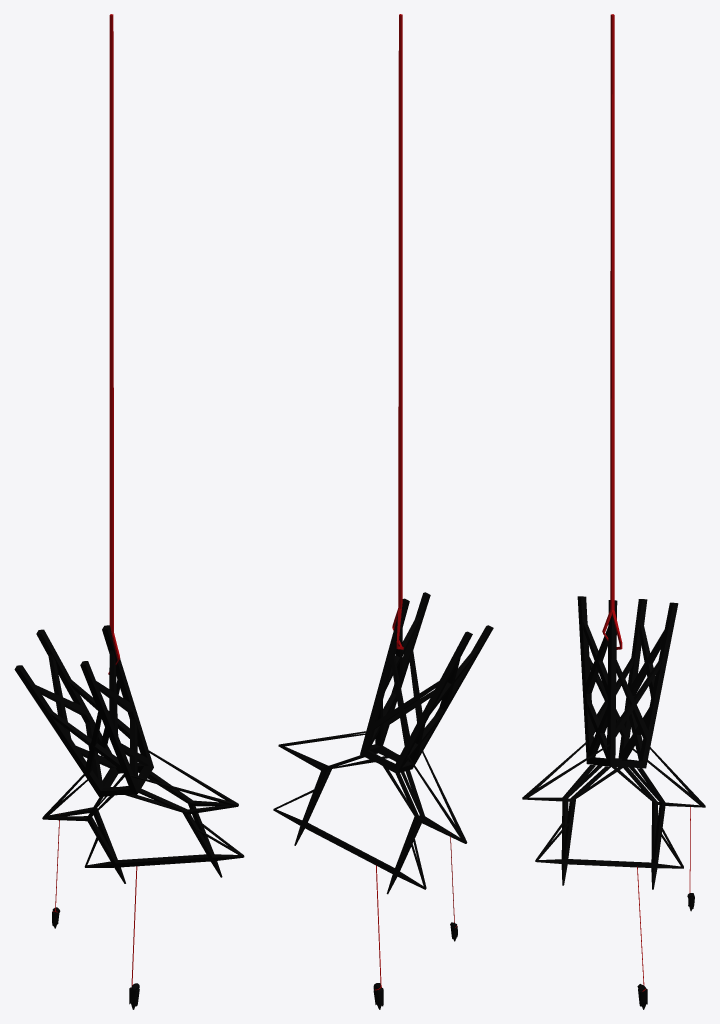
Rendered from powerplantbirds_red2.glb.
The picture shows the model from 3 angles, left to right: view 1: azimuth 30°, elevation 25°; view 2: azimuth 210°, elevation 25°; view 3: azimuth 270°, elevation 25°; orthographic projection. The views are drawn at different scales.
Parts seen in each view (by area): view 1: powerplant.001, string; view 2: powerplant.001, string; view 3: powerplant.001, string.
Boxes of the visible parts, left/top/right/bottom form: powerplant.001: left=14, top=625, right=244, bottom=883; string: left=108, top=14, right=119, bottom=674; powerplant.001: left=273, top=592, right=493, bottom=894; string: left=392, top=14, right=403, bottom=649; powerplant.001: left=522, top=596, right=705, bottom=889; string: left=602, top=14, right=622, bottom=649.
Size of the model in its own units: 14.15 by 78.94 by 13.43.
